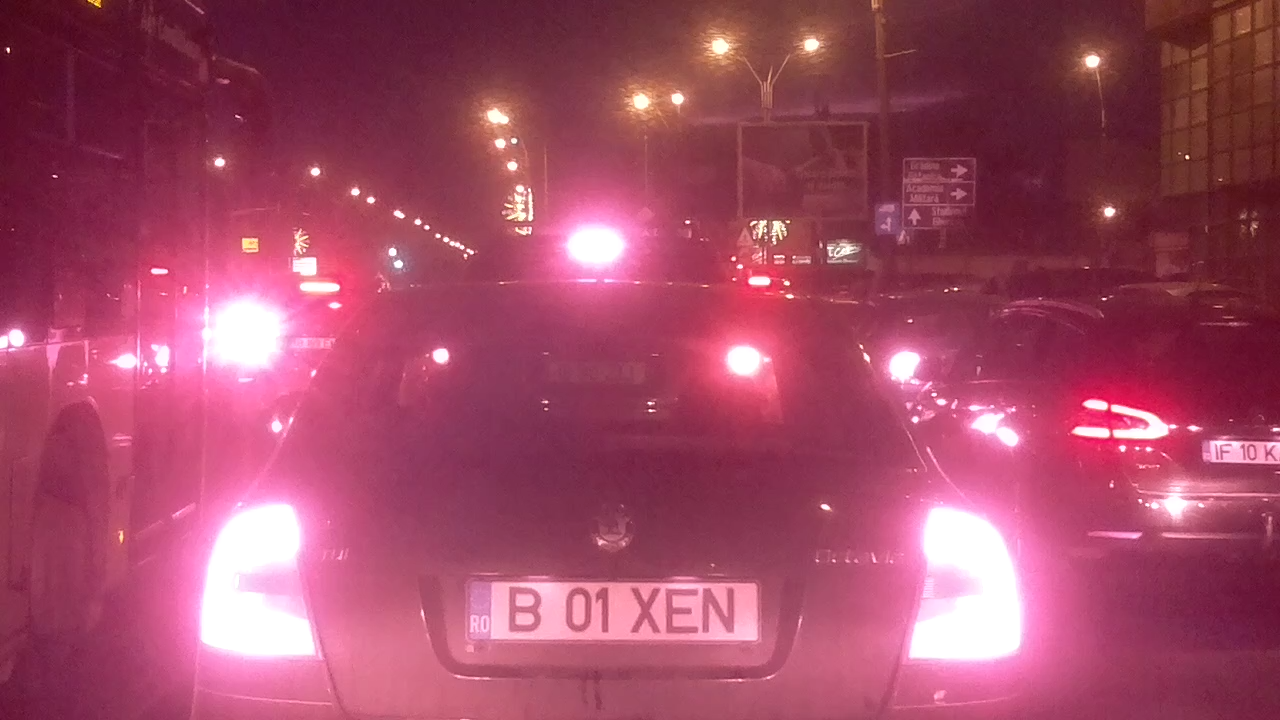license-plate: (458, 572, 766, 649)
